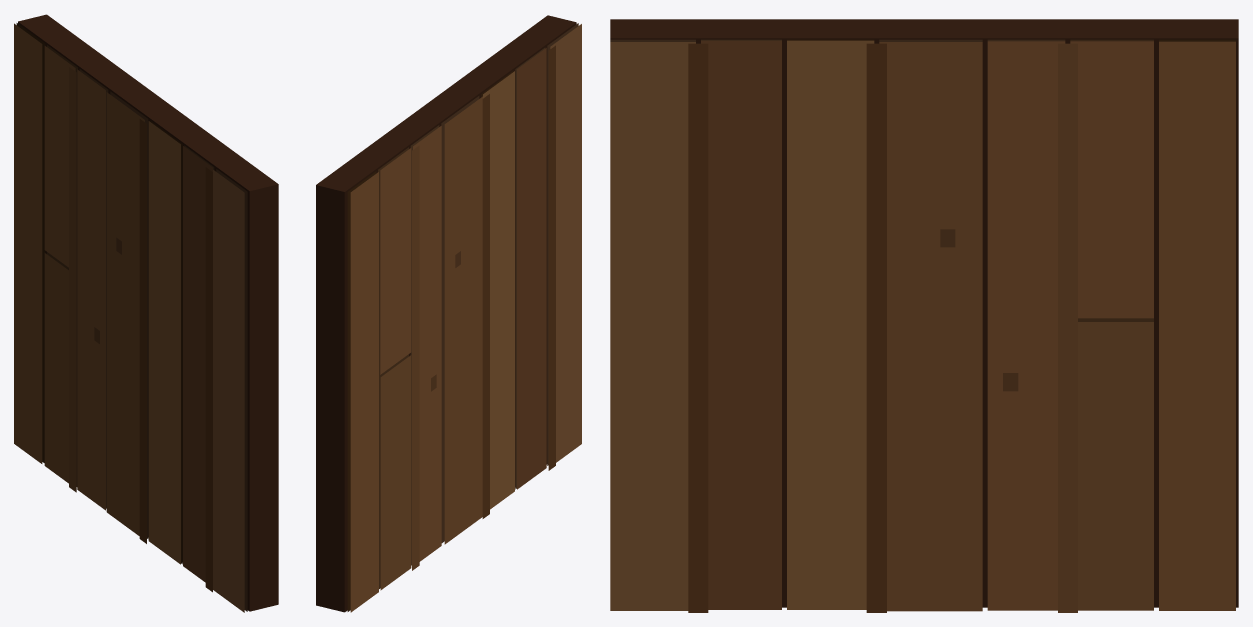
File: wall-timber.glb
3 views of the same model, side by side, from view 1: azimuth 30°, elevation 25°; view 2: azimuth 150°, elevation 25°; view 3: azimuth 270°, elevation 25° (orthographic). The views are drawn at different scales.
Visible parts, largest first — view 1: wall-timber; view 2: wall-timber; view 3: wall-timber.
Part boxes in pixels (left/top/right/bottom): wall-timber: left=14, top=14, right=278, bottom=612; wall-timber: left=316, top=15, right=581, bottom=612; wall-timber: left=610, top=19, right=1238, bottom=612.
Size of the model in its own units: 0.112 by 1 by 1.
